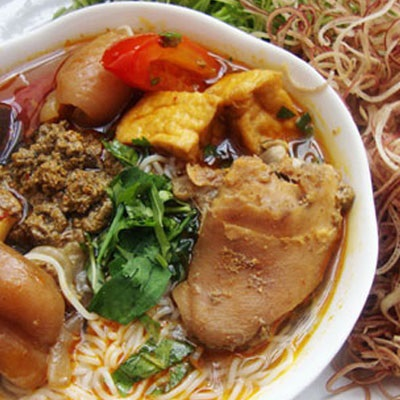onion: (114, 161, 183, 285)
pork: (177, 154, 337, 345), (2, 258, 65, 376), (54, 29, 132, 122)
rieu: (15, 139, 107, 238)
tofu: (207, 68, 299, 147), (116, 89, 226, 146)
tomato: (105, 34, 218, 88)
